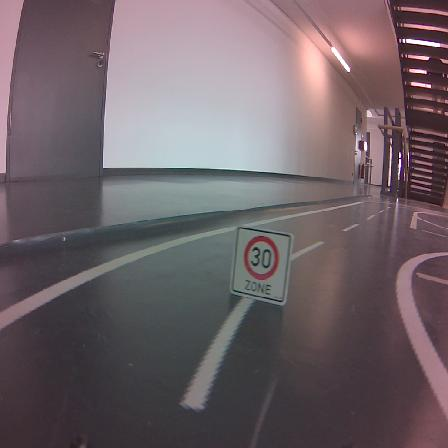30_ZONE_BEGIN: (230, 225, 293, 305)
